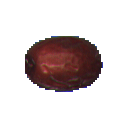gd: (19, 25, 109, 121)
